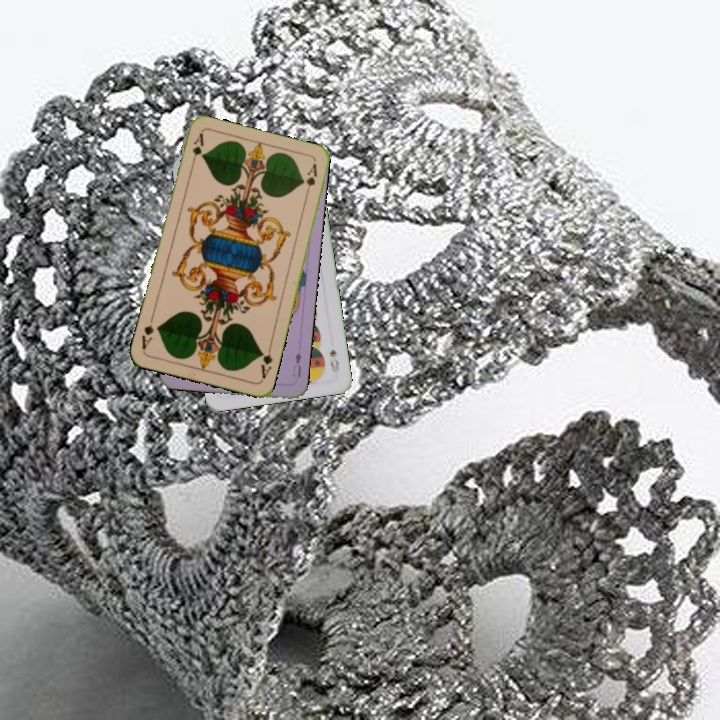EU: (288, 348, 304, 379)
GA: (187, 129, 206, 169), (256, 342, 275, 381)
S8: (326, 345, 342, 374)
